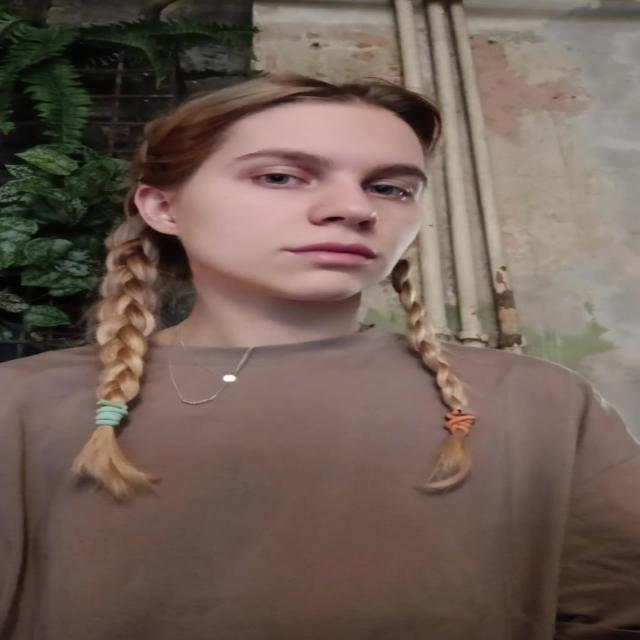earlobe: (133, 184, 181, 235)
